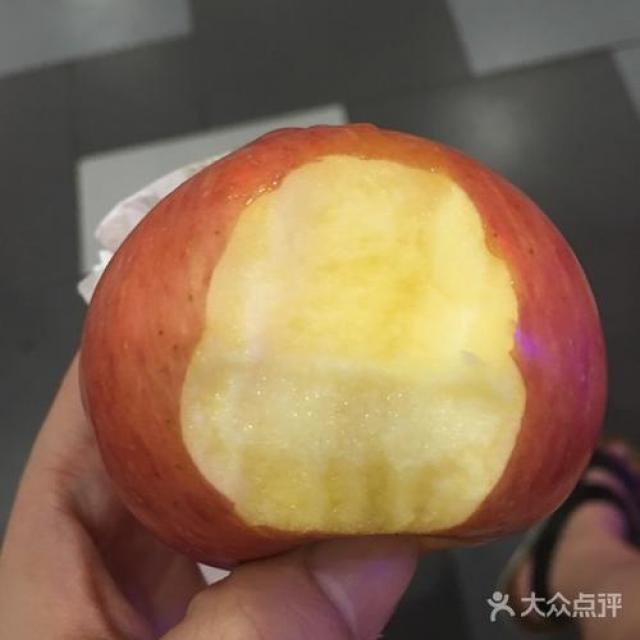Rotten: (69, 116, 611, 574)
